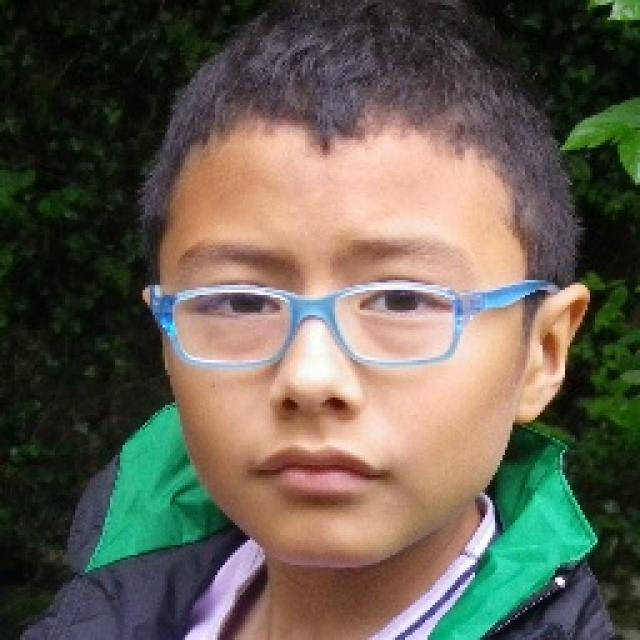earlobe: (515, 280, 591, 432)
